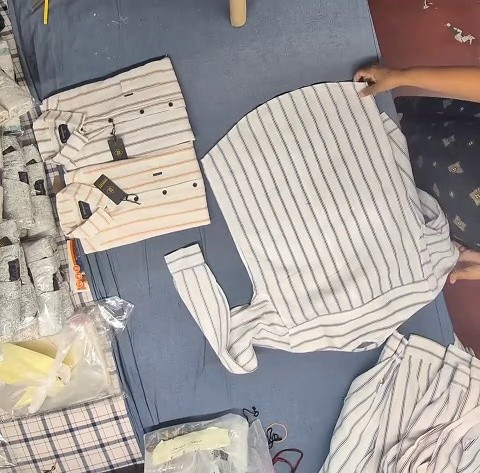SHIRT: (12, 28, 480, 471)
